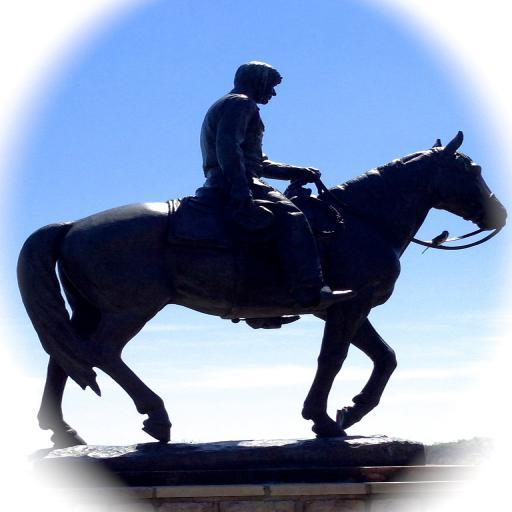Horse: (16, 124, 508, 446)
